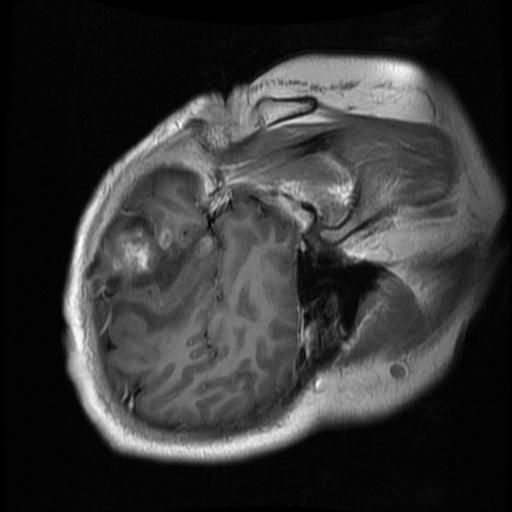glioma: (99, 210, 214, 336)
